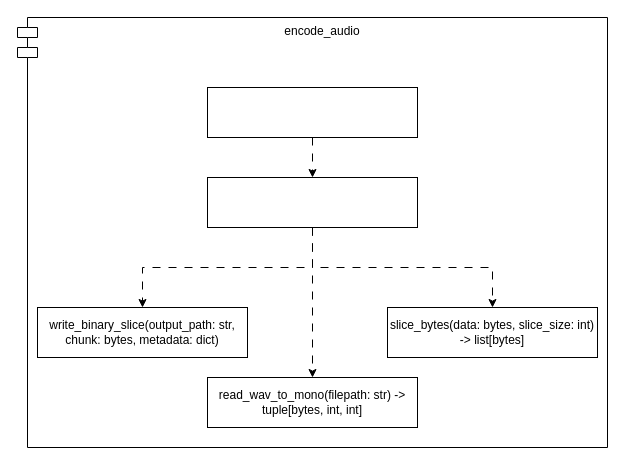
Some shapes in this 625 by 465 pixel diagram are drawn without their labels. Each missing label, with the centre of its shape:
"main()" belongs at (x=312, y=112).
"process_folder(input_folder: str, output_folder: str, slice_size: int)" belongs at (x=312, y=202).
